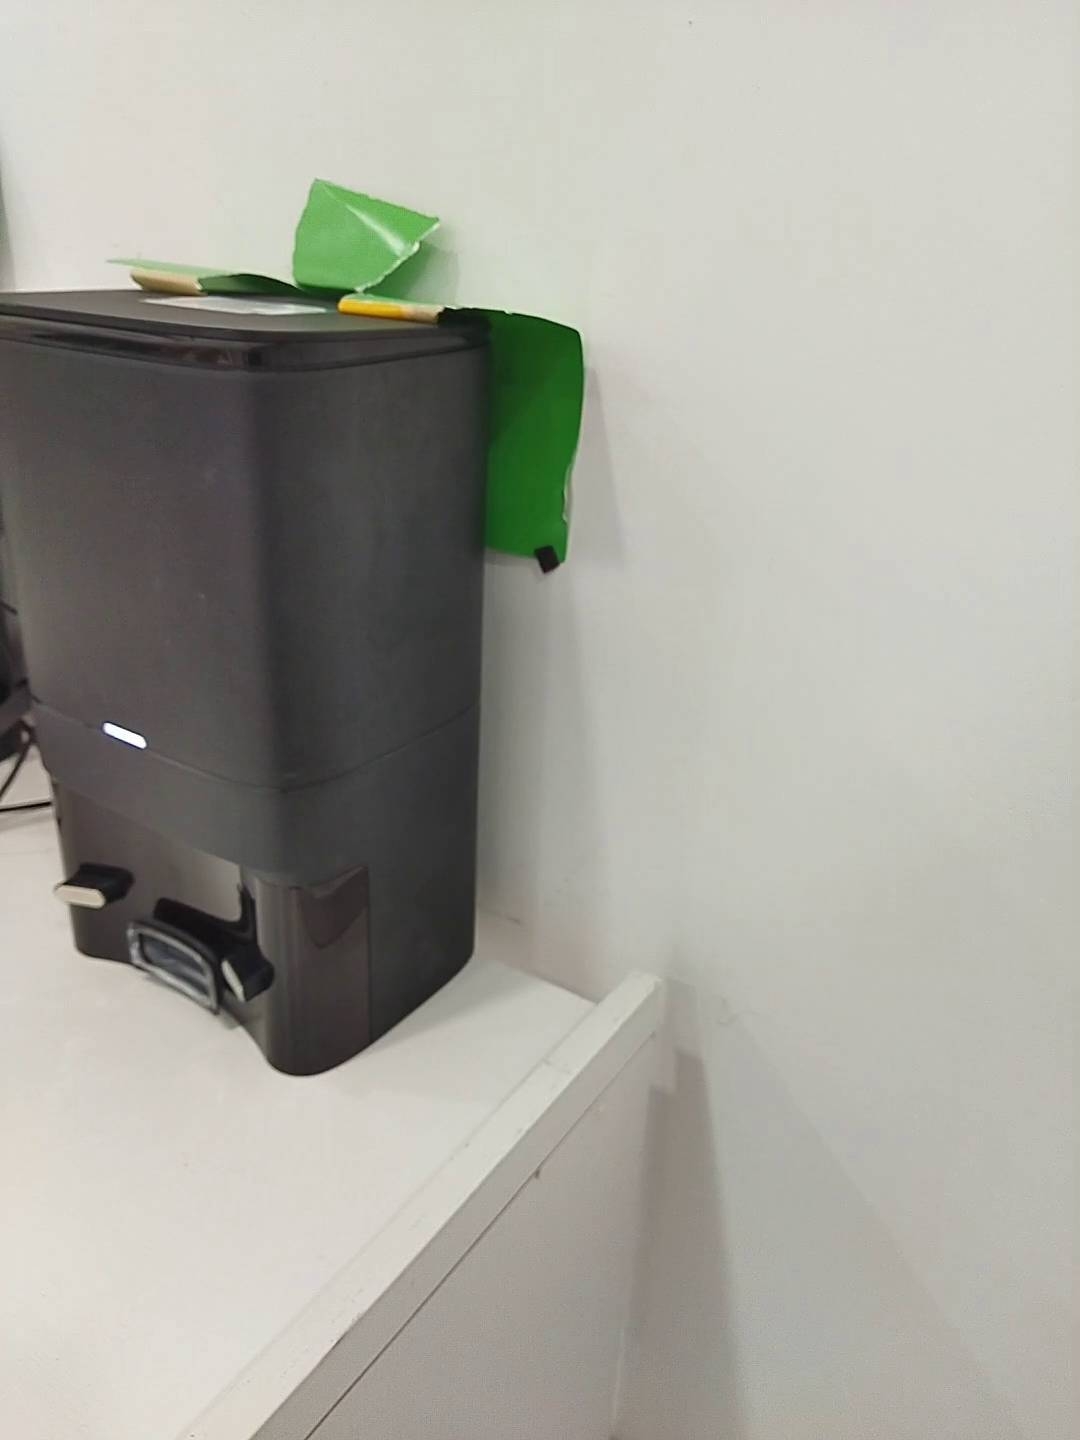dust collecting barrel: (1, 283, 486, 1081)
